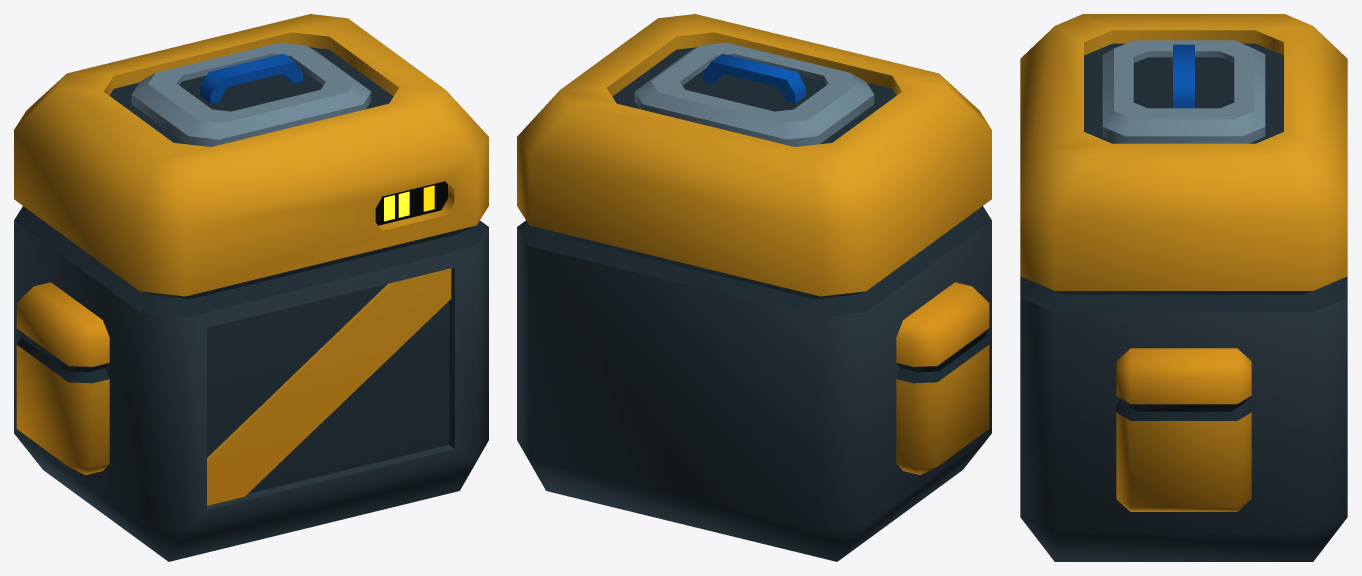
Rendered from Character2.fbx.
3 renders of one model, left to right at view 1: azimuth 30°, elevation 25°; view 2: azimuth 150°, elevation 25°; view 3: azimuth 270°, elevation 25°, orthographic. The views are drawn at different scales.
Visible parts, largest first — view 1: Bag_01_Yellow; view 2: Bag_01_Yellow; view 3: Bag_01_Yellow.
Boxes of the visible parts, left/top/right/bottom form: Bag_01_Yellow: left=14, top=14, right=488, bottom=561; Bag_01_Yellow: left=517, top=14, right=991, bottom=561; Bag_01_Yellow: left=1020, top=14, right=1347, bottom=561.
Size of the model in its own units: 43.45 by 41.1 by 28.66.
1 material, 1 textured.
